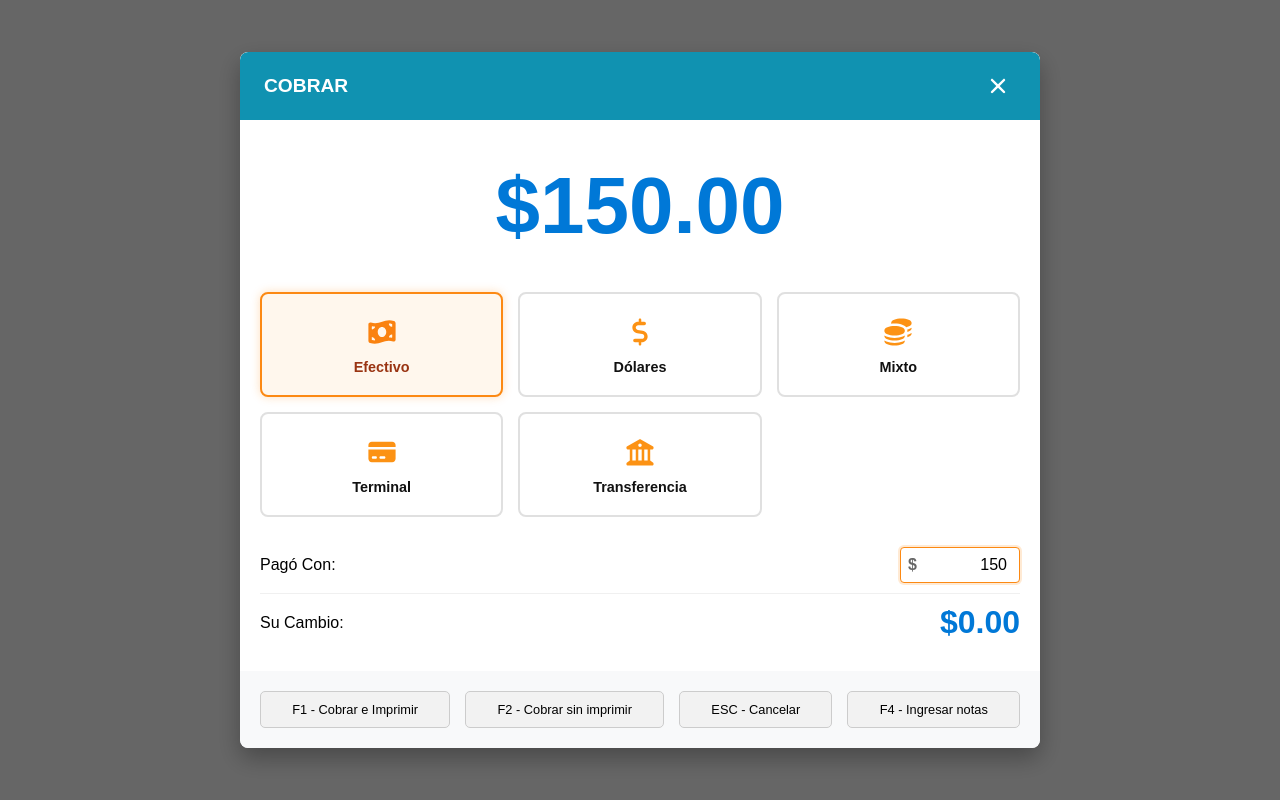
Scenario: PaymentModal: modo de impresion y accesibilidad › cancela la confirmacion sin procesar el pago
This screenshot has width=1280, height=800.
Press F1
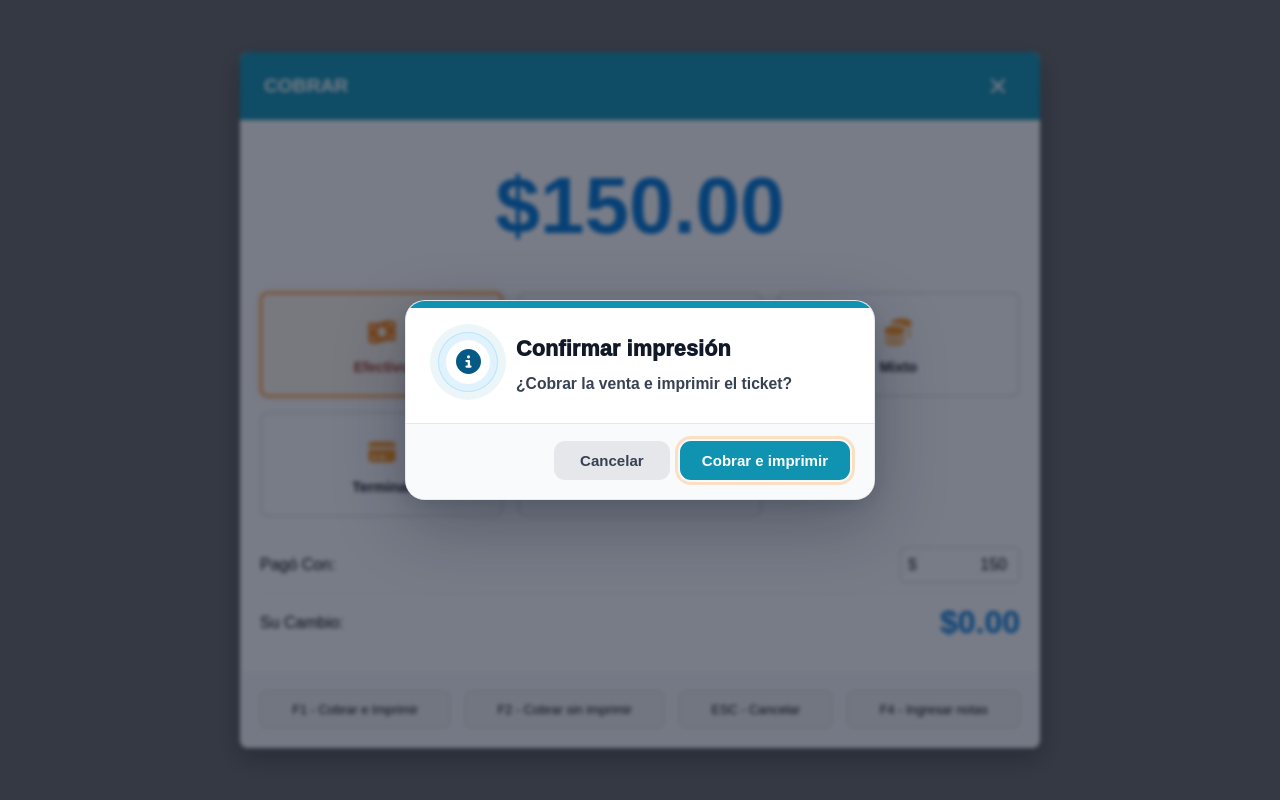
Result: the dialog "Confirmar impresión" is shown at [405,300,875,500]
Click the button "Cancelar".
click(612, 461)  # box [554,441,670,480]
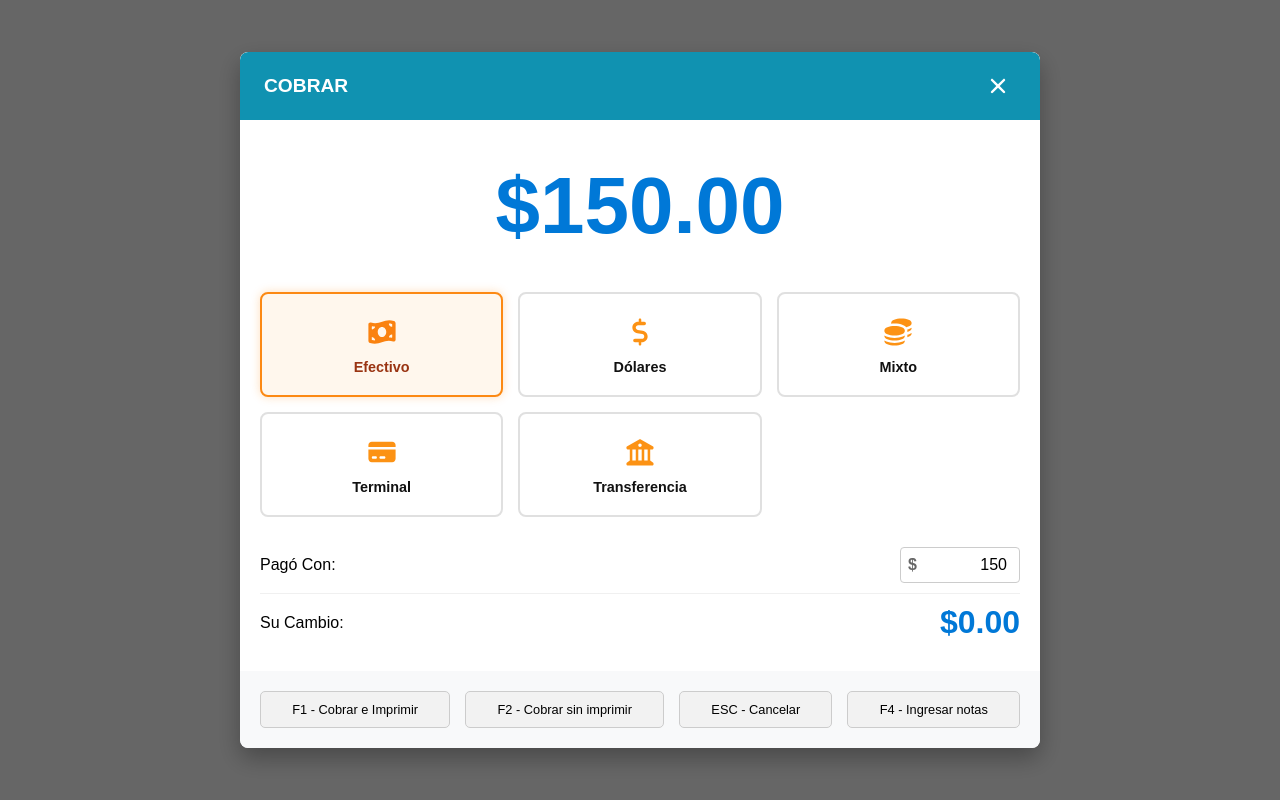
Result: the heading "Confirmar impresión" is gone
